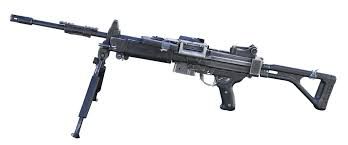gun: (8, 12, 338, 138)
